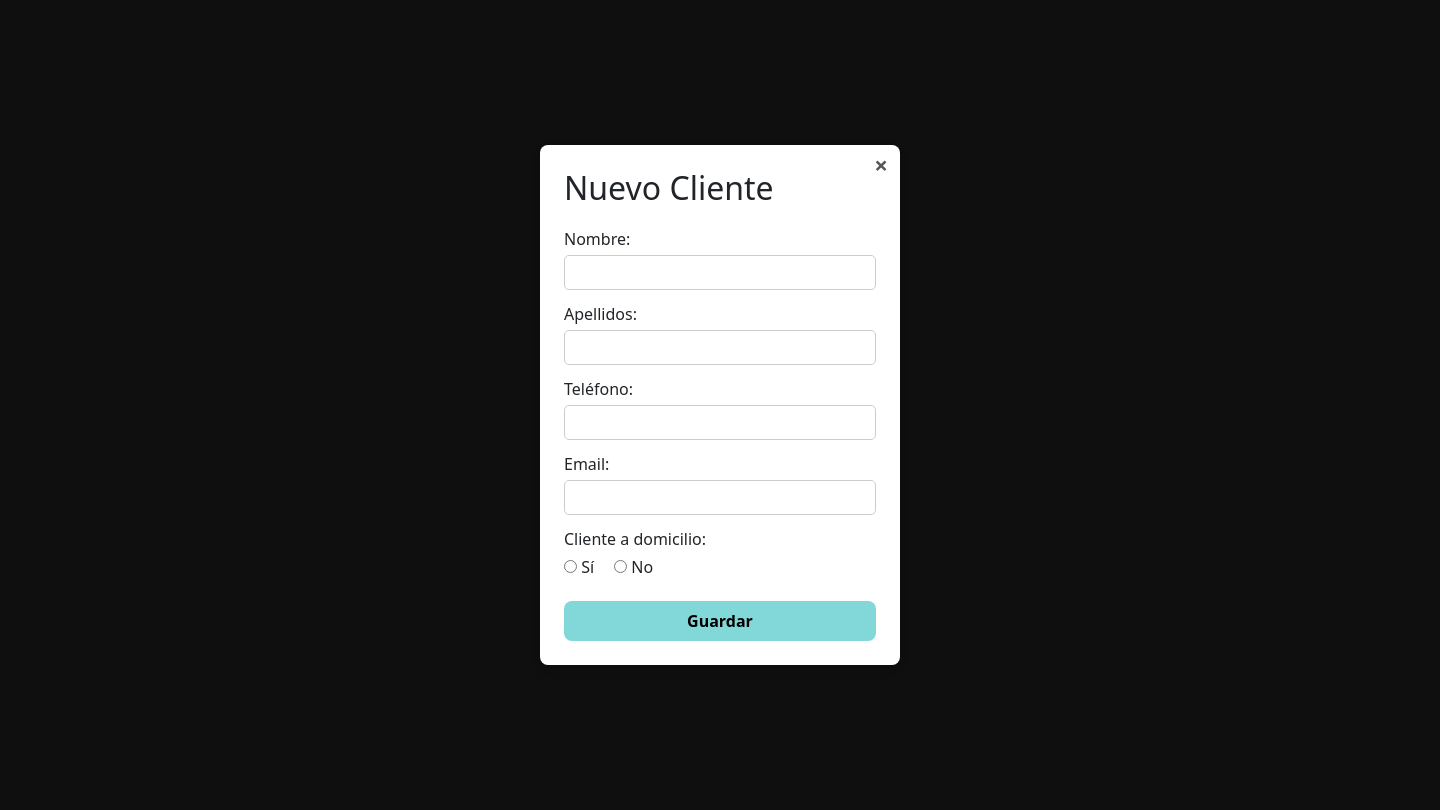
ModalNuevoCliente › muestra error si home_client no está seleccionado
Type "Ane" into the field with id "nombre".
click(720, 273); type("Ane")  # box [564,255,876,290]
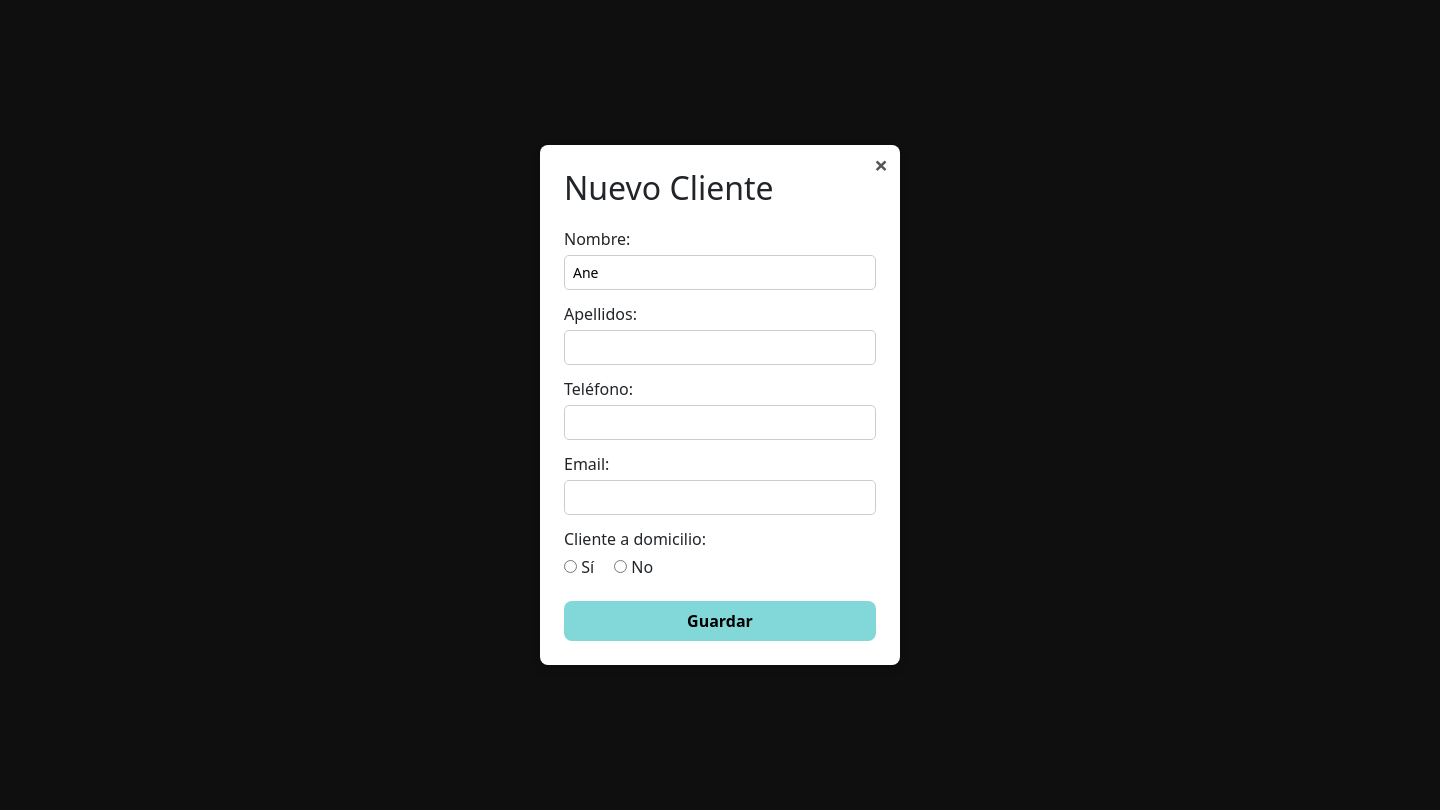
Type "Lopez" into the field with id "apellidos".
click(720, 348); type("Lopez")  # box [564,330,876,365]
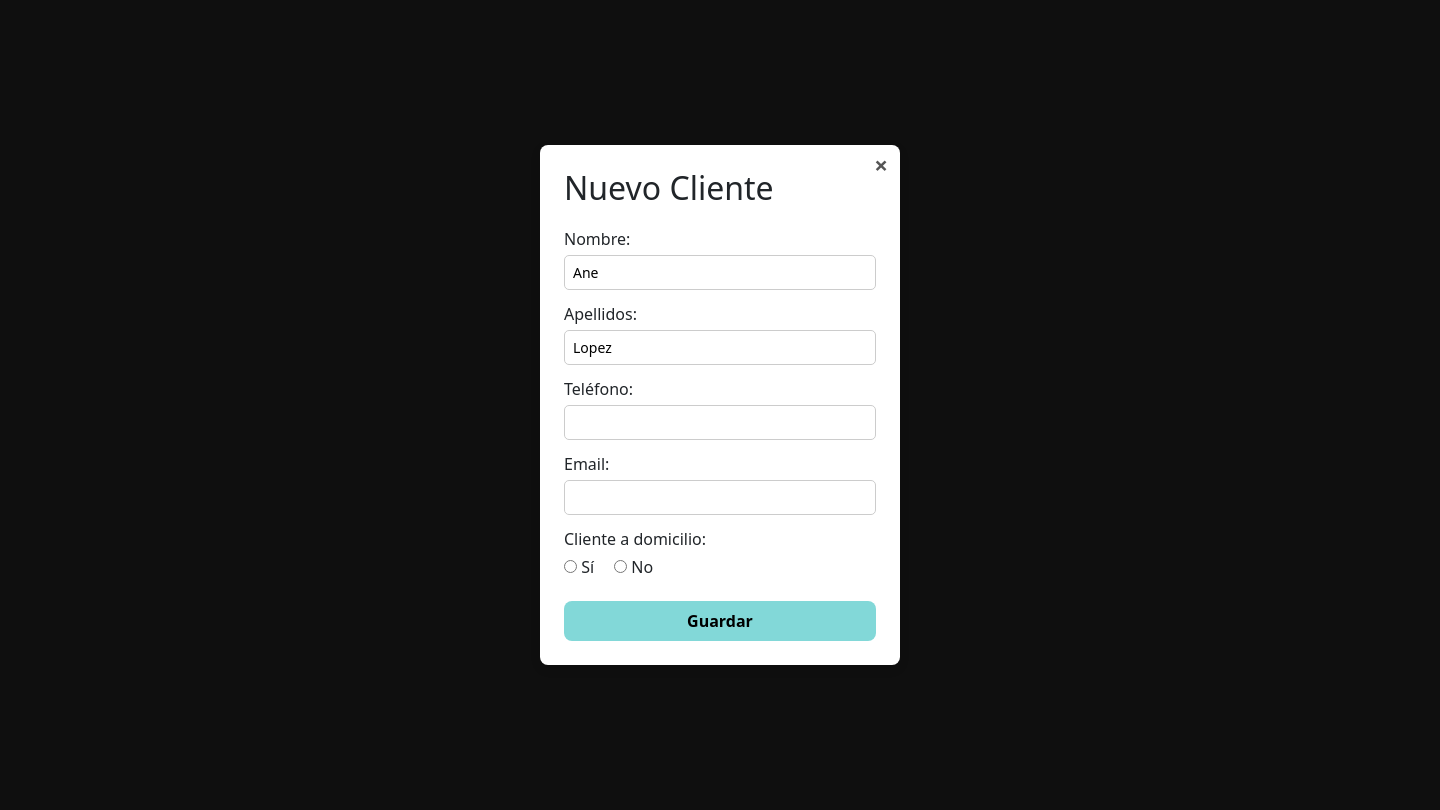
Click the button with class "guardar-btn".
click(720, 621)  # box [564,601,876,641]
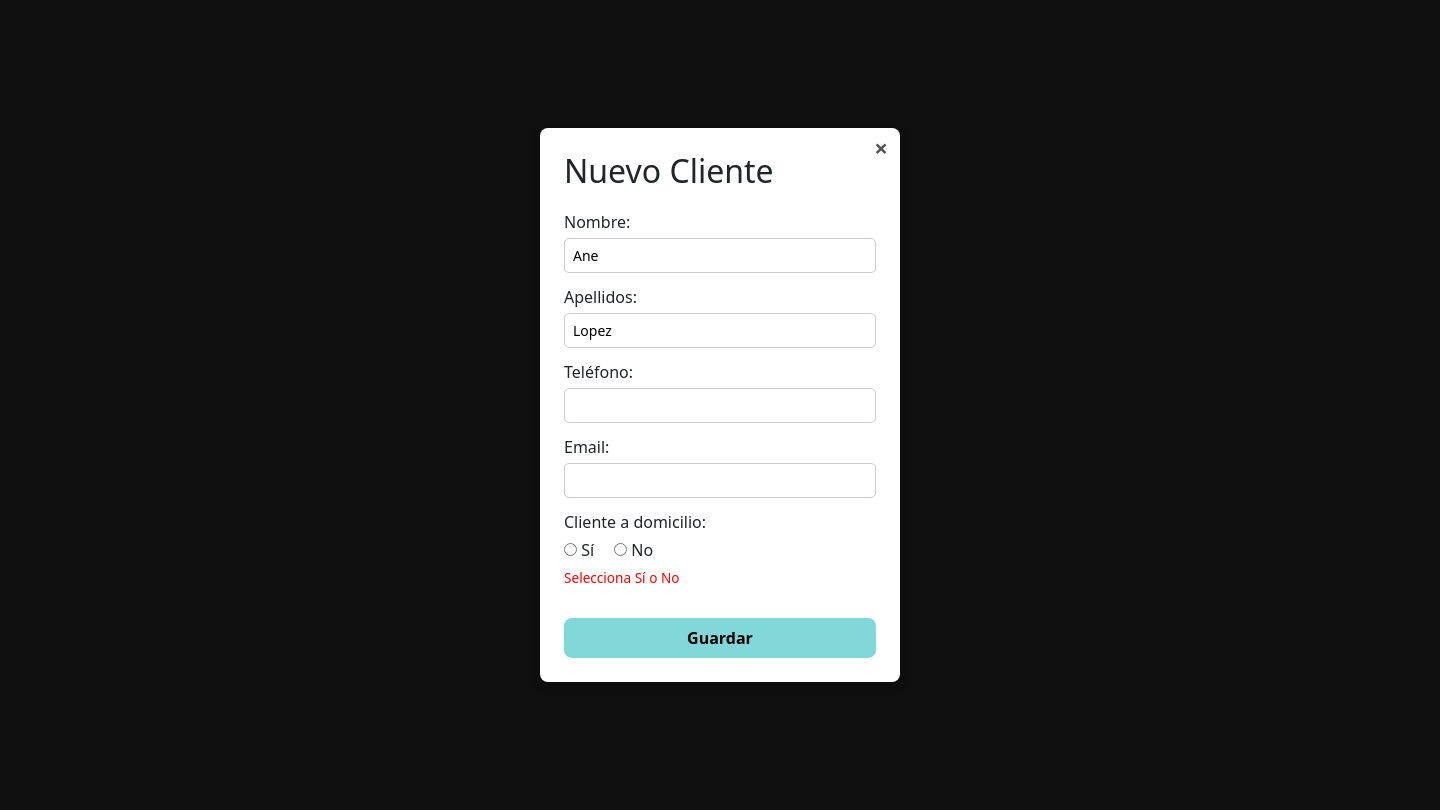
Expected: the text "Selecciona Sí o No" is shown, [564,568,680,587]
